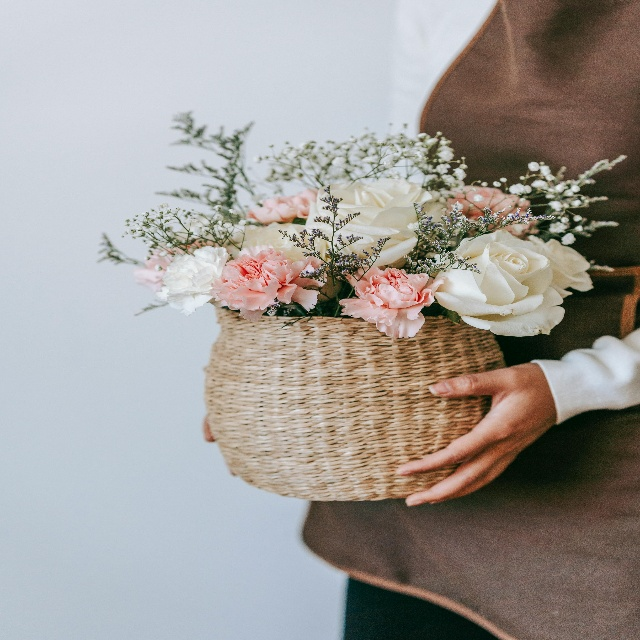Sin_guantes: (395, 359, 556, 508)
